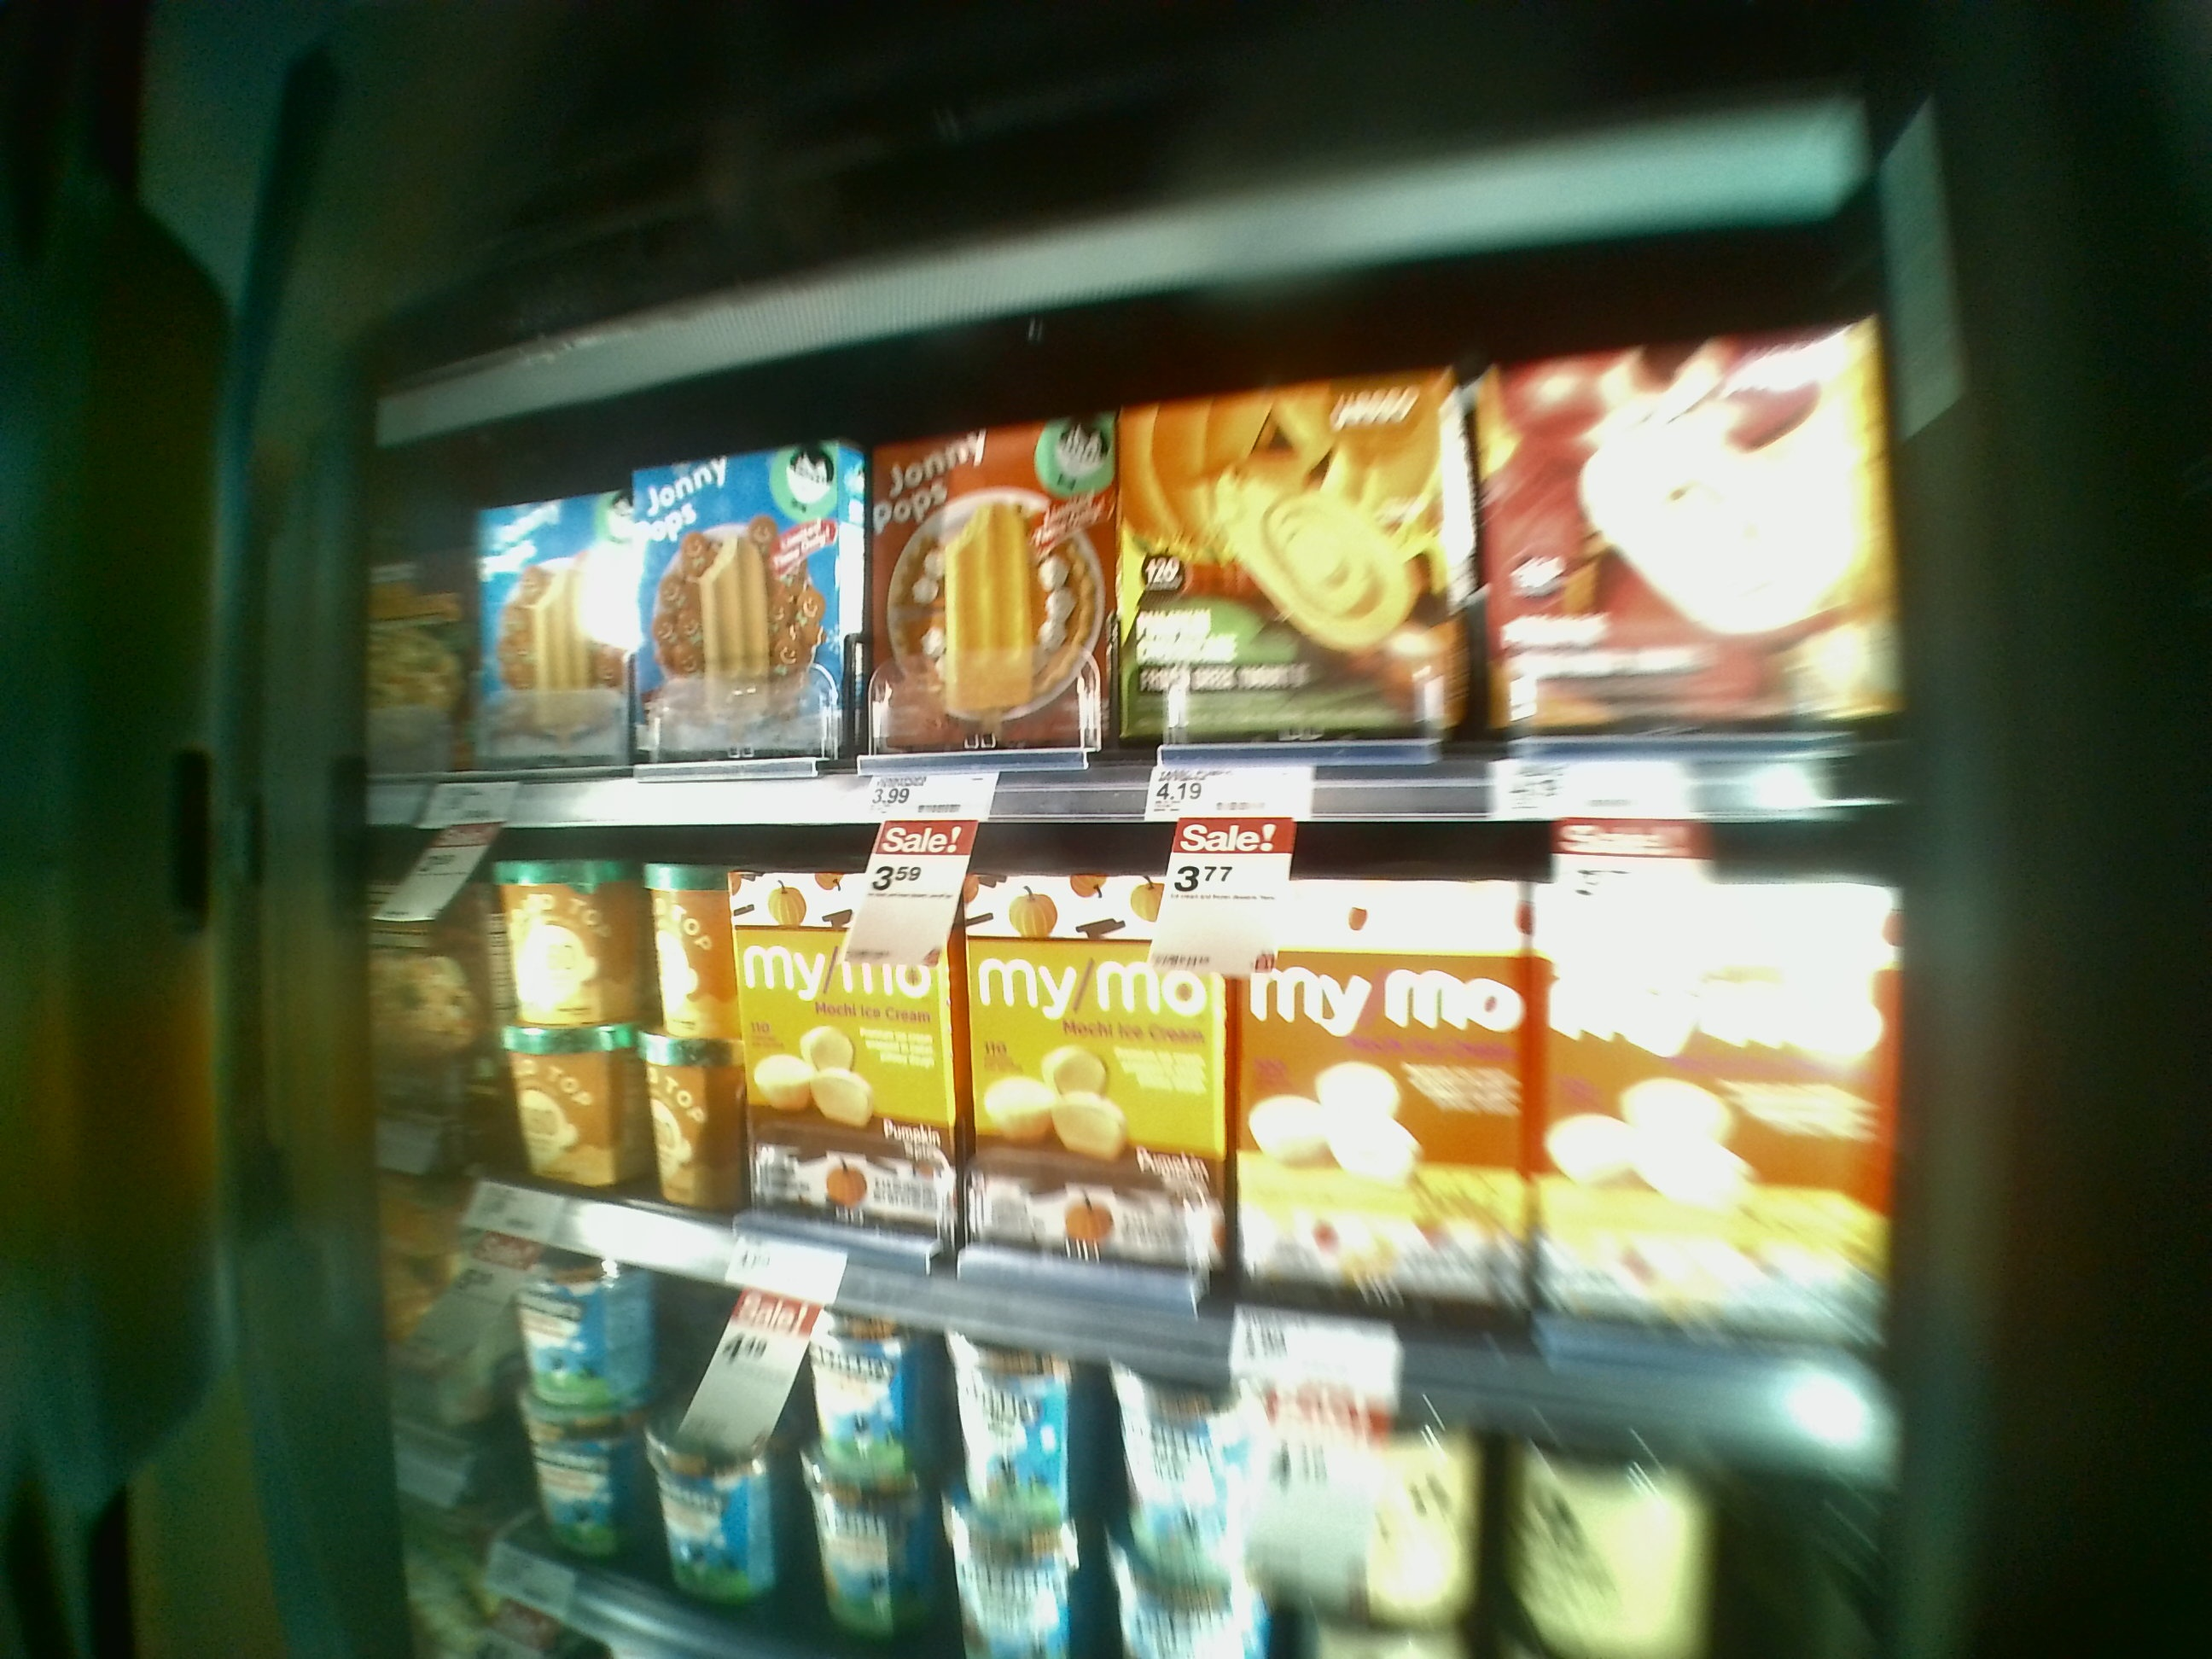shelf: (383, 823, 1902, 1481), (374, 329, 1895, 835)
